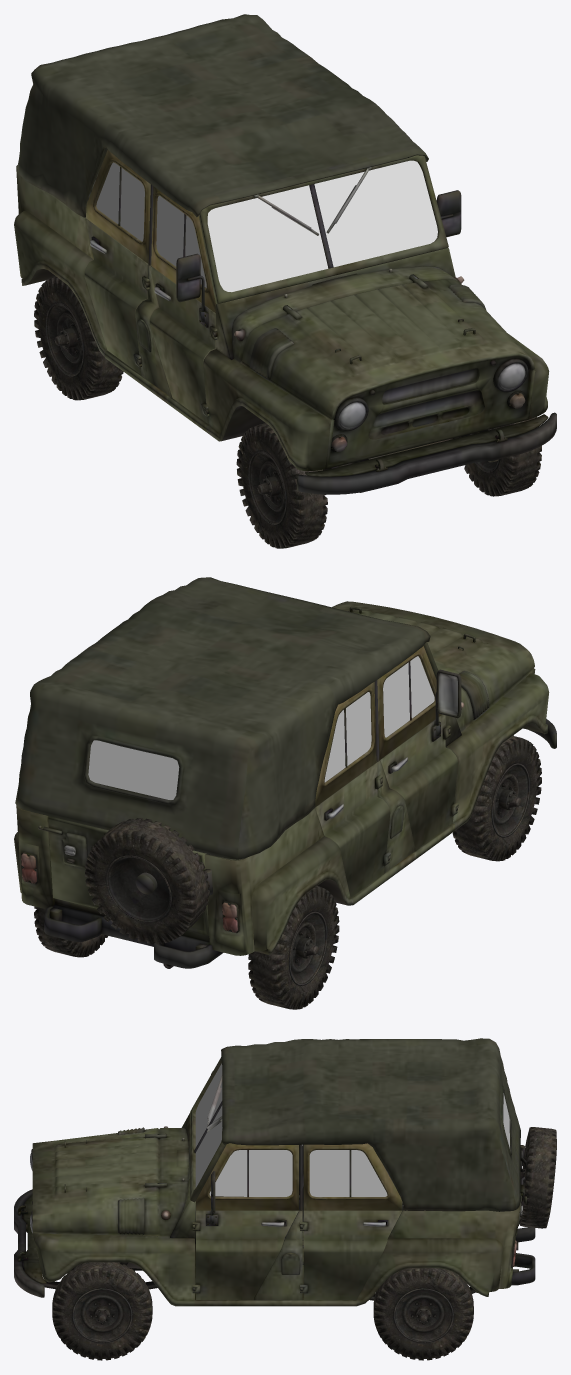
File: uaz.glb
The picture shows the model from 3 angles, top to bottom: view 1: azimuth 30°, elevation 25°; view 2: azimuth 150°, elevation 25°; view 3: azimuth 270°, elevation 25°; orthographic projection. The views are drawn at different scales.
Visible parts, largest first — view 1: u469 low tex.003_0, object 7, u wheel.002_0, u wheel.001_0, u wheel_0; view 2: u469 low tex.003_0, u wheel.005_0, object 7, u wheel.001_0, u wheel.002_0, u wheel.004_0; view 3: u469 low tex.003_0, object 7, u wheel_0, u wheel.004_0, u wheel.005_0.
Boxes of the visible parts, box(x1,y1,x2,y2) form: u469 low tex.003_0: box(14, 14, 556, 494); object 7: box(96, 160, 437, 292); u wheel.002_0: box(236, 423, 327, 548); u wheel.001_0: box(34, 276, 123, 400); u wheel_0: box(464, 417, 541, 496); u469 low tex.003_0: box(14, 577, 556, 968); u wheel.005_0: box(85, 818, 209, 944); object 7: box(88, 656, 434, 799); u wheel.001_0: box(248, 886, 339, 1009); u wheel.002_0: box(452, 736, 541, 861); u wheel.004_0: box(34, 906, 107, 957); u469 low tex.003_0: box(14, 1038, 535, 1306); object 7: box(195, 1063, 509, 1196); u wheel_0: box(52, 1262, 152, 1360); u wheel.004_0: box(373, 1268, 473, 1360); u wheel.005_0: box(519, 1127, 556, 1228).
Size of the model in its own units: 1.93 by 1.93 by 4.03.
3 materials, 2 textured.
